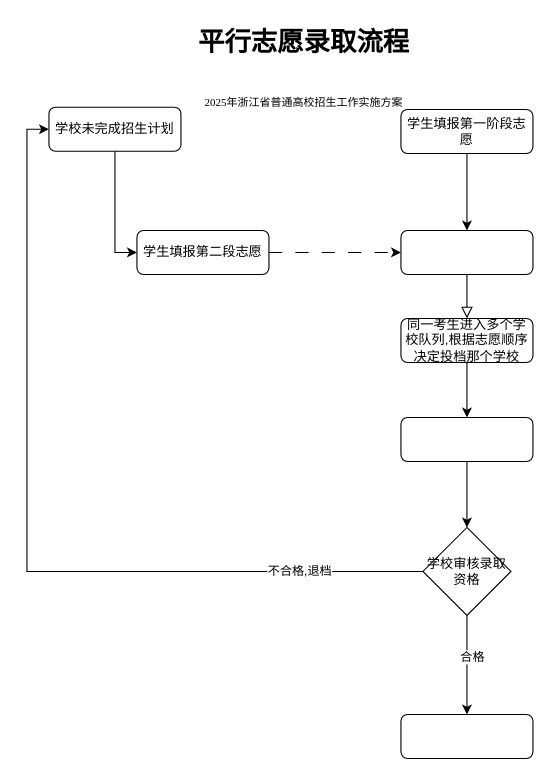
This 552x778 diagram has some shape labels left out. Here are the shapes that lost their labels. From the top down, the centre of each, then its label:
point 466,251: 学校列出所有志愿报考本校的学生分数,从高到低排序
point 466,438: 根据招生人数1:1投档
point 466,735: 录取
